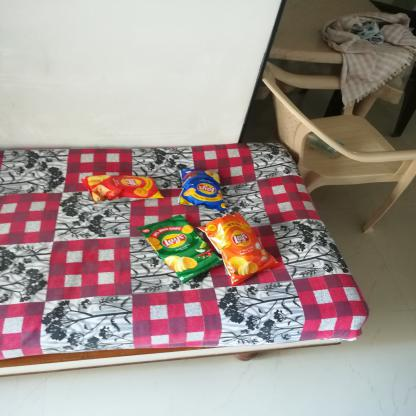chile_limon: (139, 212, 221, 284)
hot_and_sweet: (193, 217, 274, 288)
indian_magic_masala: (173, 165, 228, 211)
tangy_tomato: (86, 168, 167, 206)
